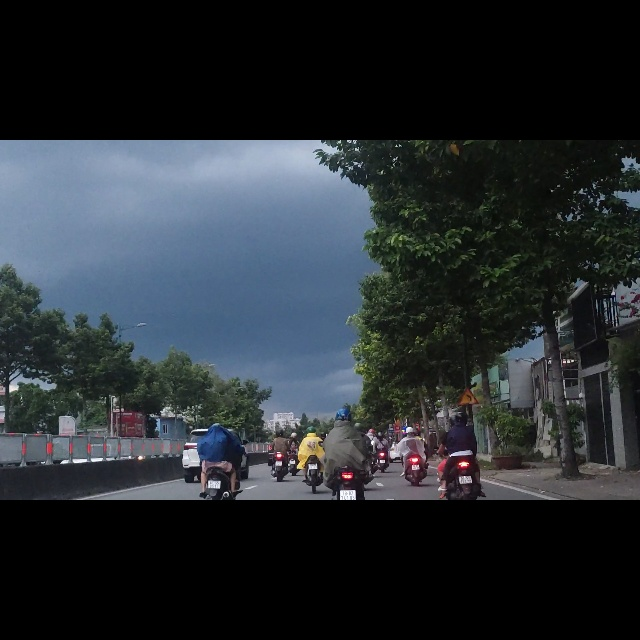bien_nguy_hiem: (458, 439, 479, 471)
